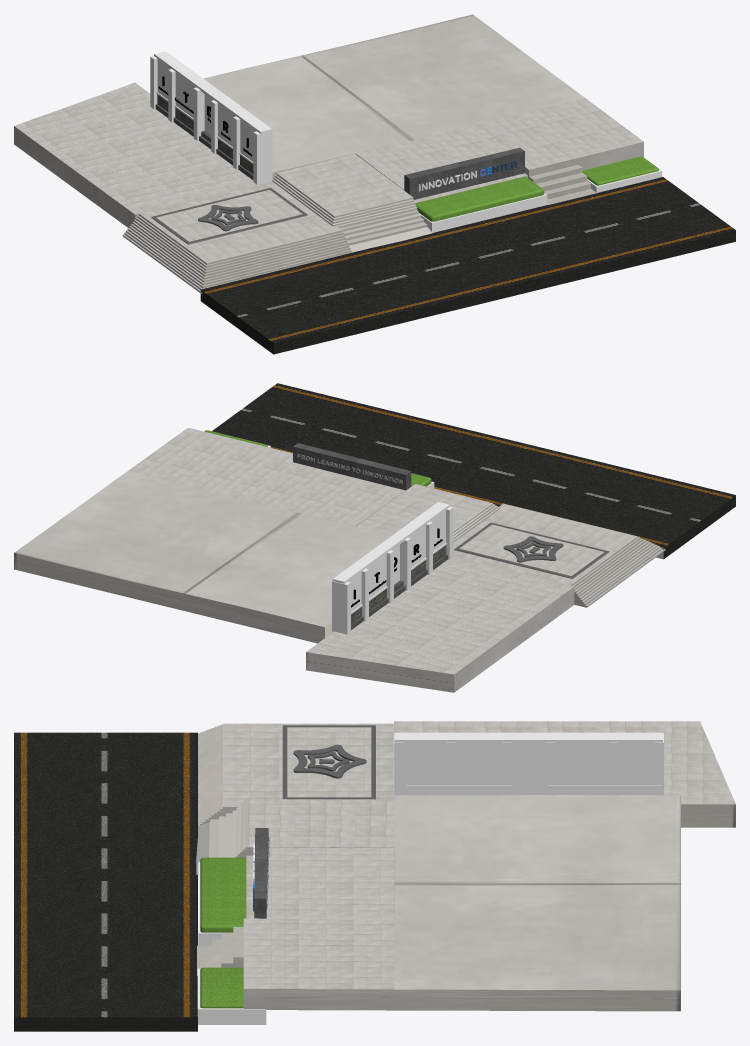
Rendered from percobaan 4.fbx.
3 renders of one model, top to bottom at view 1: azimuth 30°, elevation 25°; view 2: azimuth 150°, elevation 25°; view 3: azimuth 270°, elevation 25°, orthographic. The views are drawn at different scales.
Parts seen in each view (by area): view 1: area luar; view 2: area luar; view 3: area luar.
Boxes of the visible parts, box(x1,y1,x2,y2) form: area luar: box(14, 14, 735, 354); area luar: box(14, 383, 735, 692); area luar: box(14, 721, 735, 1031).
Size of the model in its own units: 5269 by 853 by 5625.
16 materials, 5 textured.
